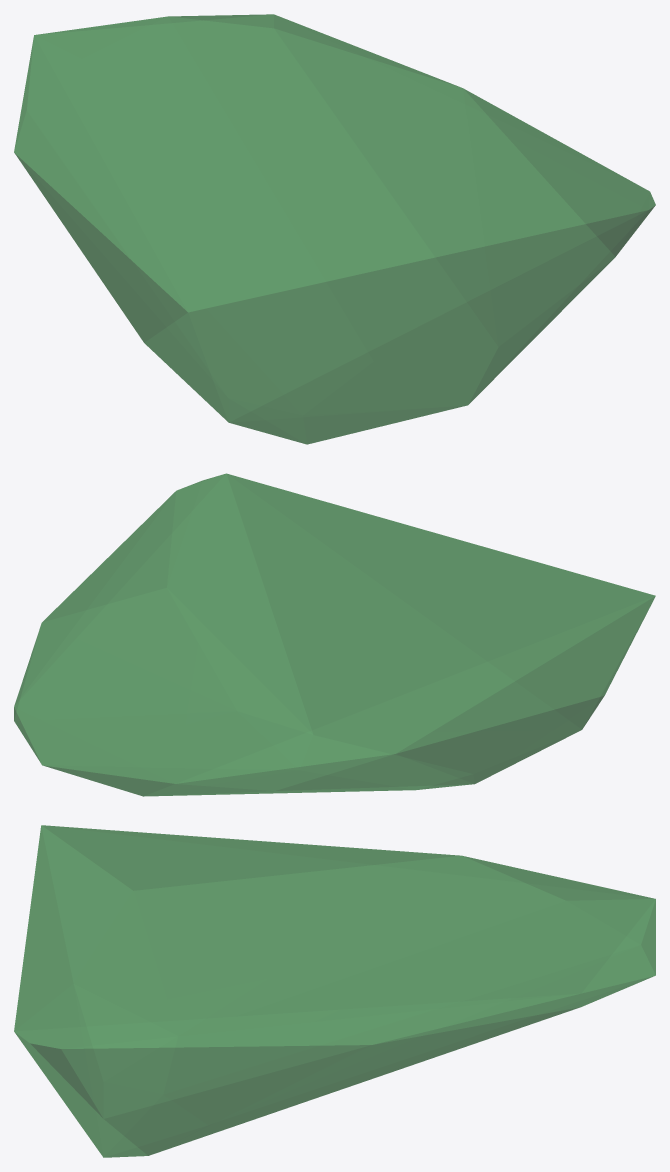
3 renders of one model, top to bottom at view 1: azimuth 30°, elevation 25°; view 2: azimuth 150°, elevation 25°; view 3: azimuth 270°, elevation 25°, orthographic. The views are drawn at different scales.
Visible parts, largest first — view 1: Shape_IndexedFaceSet.003_Shape_IndexedFaceSet.3499; view 2: Shape_IndexedFaceSet.003_Shape_IndexedFaceSet.3499; view 3: Shape_IndexedFaceSet.003_Shape_IndexedFaceSet.3499.
Boxes of the visible parts, x1,y1,x2,y2 form: Shape_IndexedFaceSet.003_Shape_IndexedFaceSet.3499: (14,14,655,444); Shape_IndexedFaceSet.003_Shape_IndexedFaceSet.3499: (14,473,655,796); Shape_IndexedFaceSet.003_Shape_IndexedFaceSet.3499: (14,825,655,1157).
Bounding box in the file's own units: 0.1938 × 0.0771 × 0.2366.
